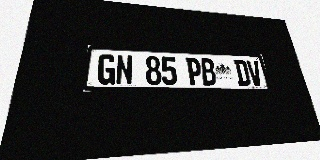5: (161, 57, 178, 85)
8: (145, 56, 162, 85)
B: (200, 58, 217, 85)
D: (234, 60, 251, 86)
G: (97, 54, 116, 85)
N: (115, 55, 133, 85)
P: (186, 58, 203, 85)
V: (246, 60, 264, 86)
